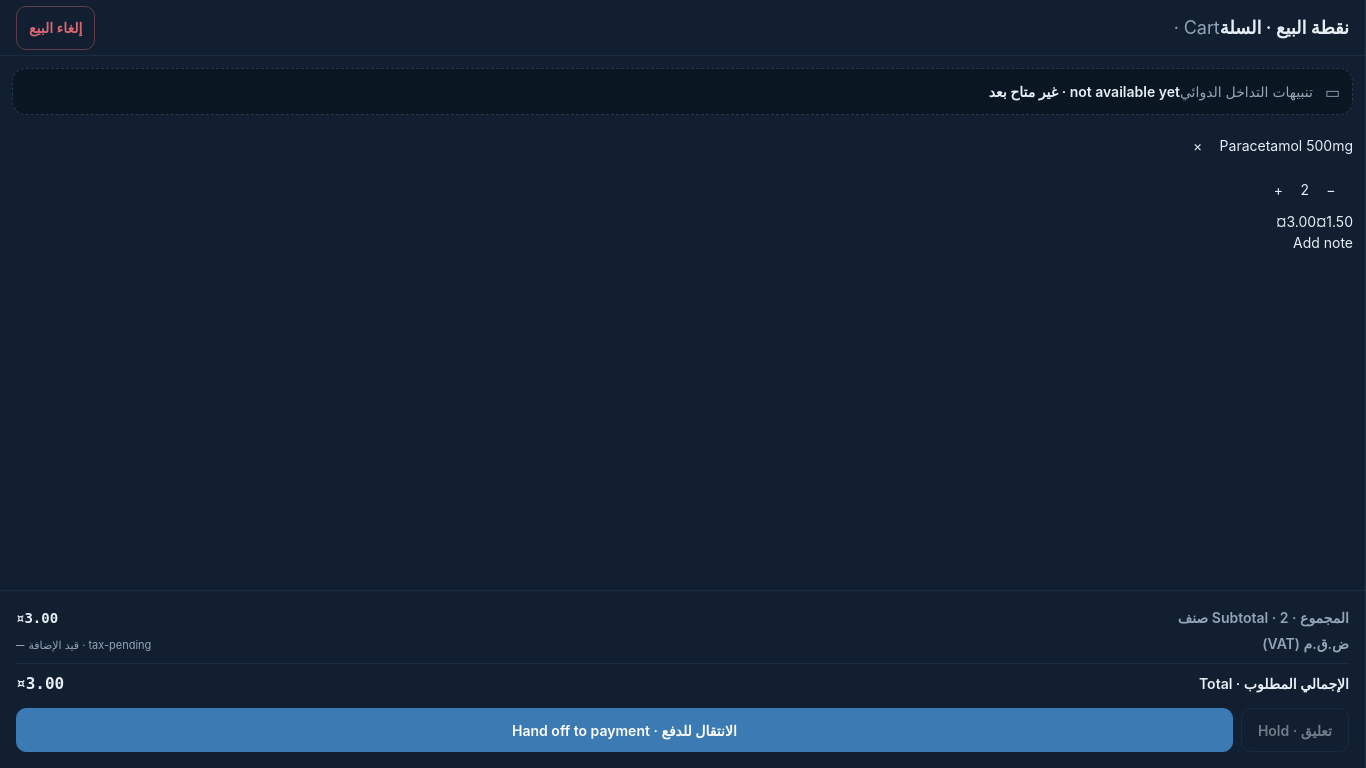
T052 — CartPane bridge: increment line › increments displayed quantity after update ok response
Expected: the text with test id "qty-display" reads "2", [1300,180,1309,198]
Click the button with test id "qty-increment": (1278, 189) [1256,167,1300,211]
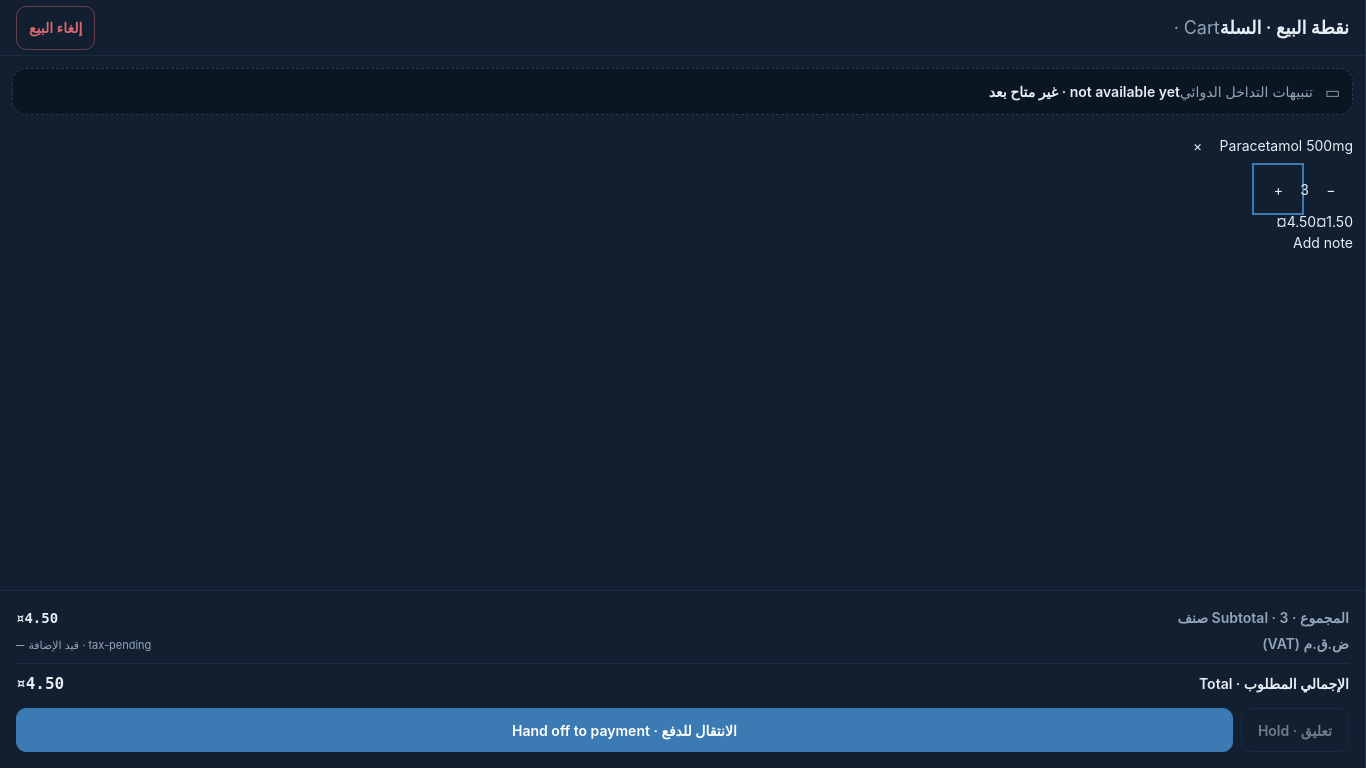
Expected: the text with test id "qty-display" reads "3", [1300,180,1309,198]
